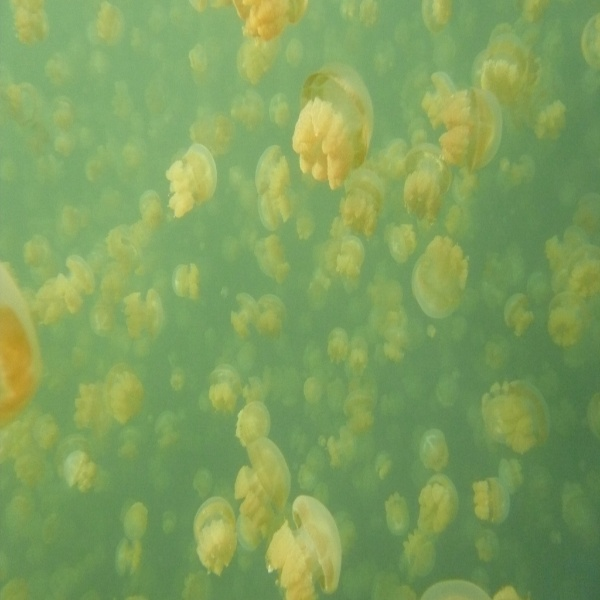Jellyfish: (0, 0, 599, 599), (162, 131, 221, 208)
